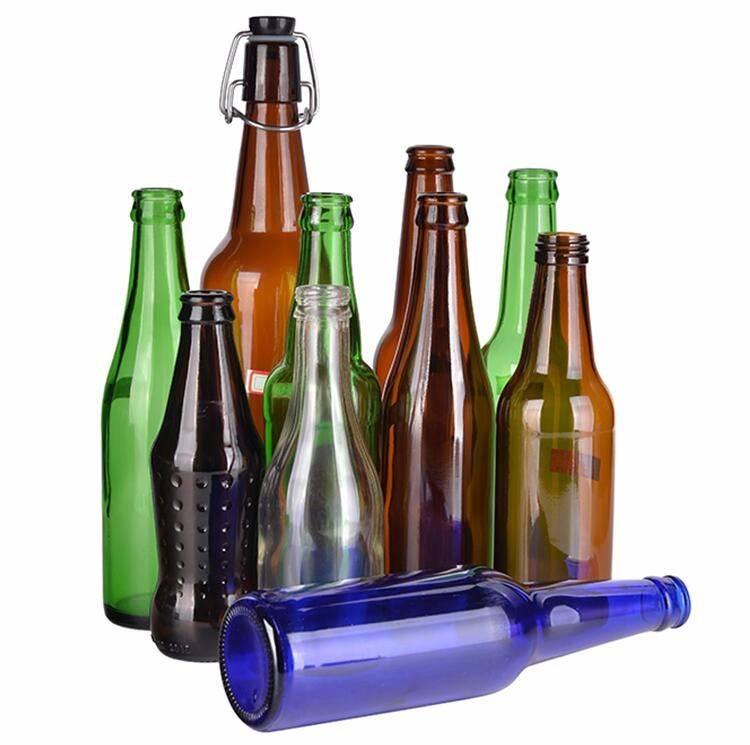glass_bottle: (74, 7, 714, 739)
